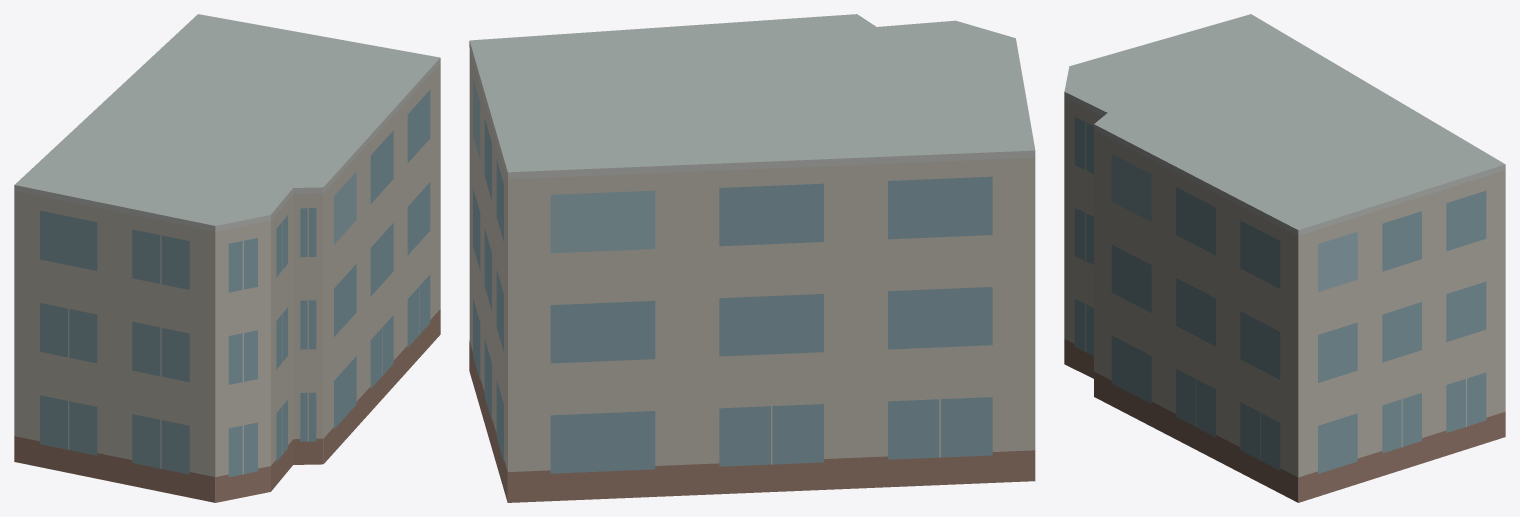
The model's file is survey-upis-32506562.glb.
3 renders of one model, left to right at view 1: azimuth 30°, elevation 25°; view 2: azimuth 150°, elevation 25°; view 3: azimuth 270°, elevation 25°, orthographic. The views are drawn at different scales.
Parts seen in each view (by area): view 1: survey-upis-32506562.tmp; view 2: survey-upis-32506562.tmp; view 3: survey-upis-32506562.tmp.
Boxes of the visible parts, left/top/right/bottom form: survey-upis-32506562.tmp: left=14, top=14, right=440, bottom=502; survey-upis-32506562.tmp: left=469, top=14, right=1035, bottom=502; survey-upis-32506562.tmp: left=1064, top=14, right=1505, bottom=502.
Size of the model in its own units: 19.82 by 11.65 by 17.09.
